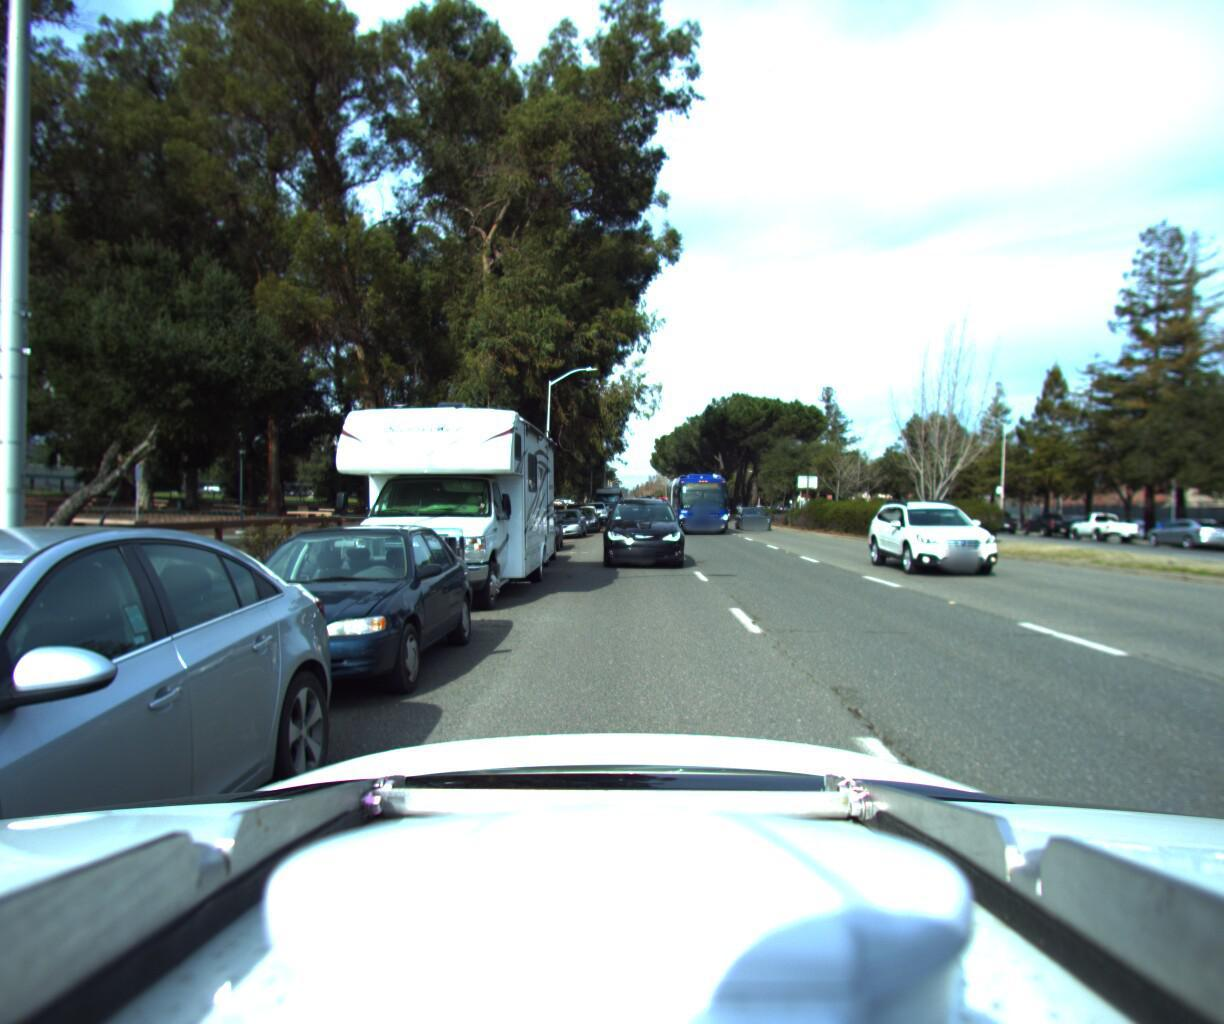bus: (665, 467, 735, 533)
car: (0, 506, 371, 1024), (138, 511, 489, 728), (863, 492, 1025, 577), (596, 487, 682, 567), (1137, 508, 1224, 547), (504, 501, 564, 550), (1065, 502, 1143, 537), (1019, 502, 1077, 533), (542, 501, 588, 534), (733, 494, 776, 524), (967, 504, 1020, 528), (563, 499, 601, 529), (582, 493, 609, 519), (627, 489, 654, 513)
other_vehicle: (291, 366, 560, 620), (591, 478, 623, 513)
